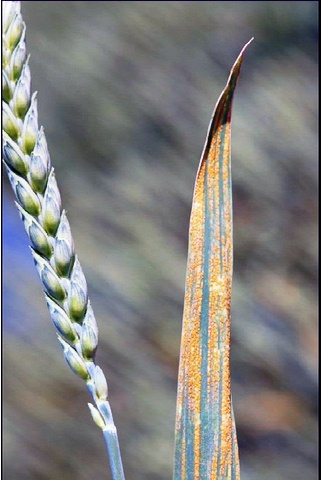Leaf Rust: (173, 59, 256, 469)
